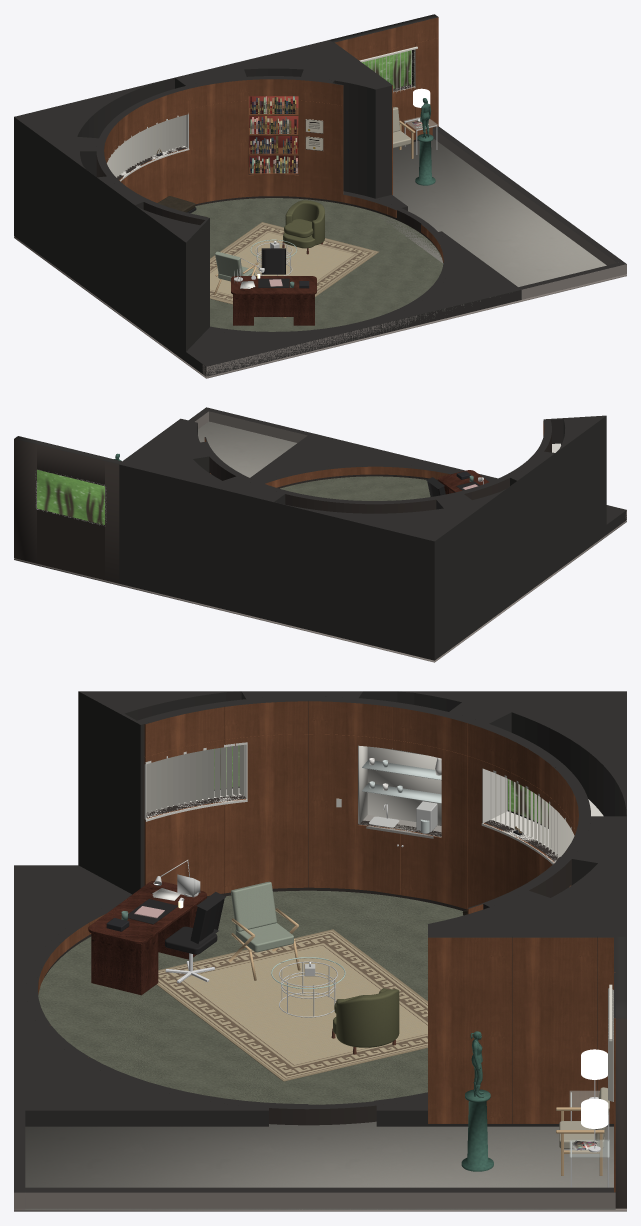
The model's file is room.glb.
3 views of the same model, one above another, from view 1: azimuth 30°, elevation 25°; view 2: azimuth 150°, elevation 25°; view 3: azimuth 270°, elevation 25° (orthographic). The views are drawn at different scales.
Visible parts, largest first — view 1: solid_full_ext, solid_full, floor, floor_wait, solid_kerb_front, rug, drum_panel_4_72.0_0.05, kerb_front_ext, drum_panel_2_36.0_0.05, solid_kerb_front_ext, furn_rosewood, furn_blind_fabric (+28 smaller); view 2: solid_full_ext, solid_full, solid_kerb_front, back_wall_sill_ext, floor_wait, floor, back_wall_1_ext, wwin_view, back_wall_head_ext, drum_core_window_90_hi, back_wall_0_ext, subfloor_ext (+8 smaller); view 3: solid_full, floor_wait, floor, rug, solid_kerb_front, kerb_right_ext, wait_left_panel_1_0.1, wait_left_panel_0_0.1, drum_panel_10_180.0_0.05, furn_blind_fabric, drum_panel_9_169.5_0.05, furn_rosewood (+42 smaller).
Boxes of the visible parts, left/top/right/bottom form: solid_full_ext: left=14, top=117, right=185, bottom=361; solid_full: left=14, top=40, right=391, bottom=351; floor: left=191, top=198, right=443, bottom=331; floor_wait: left=377, top=138, right=606, bottom=286; solid_kerb_front: left=186, top=231, right=521, bottom=366; rug: left=210, top=222, right=378, bottom=317; drum_panel_4_72.0_0.05: left=189, top=101, right=238, bottom=204; kerb_front_ext: left=202, top=261, right=626, bottom=376; drum_panel_2_36.0_0.05: left=299, top=100, right=343, bottom=202; solid_kerb_front_ext: left=186, top=290, right=521, bottom=376; furn_rosewood: left=231, top=276, right=316, bottom=325; furn_blind_fabric: left=107, top=46, right=417, bottom=177; solid_full_ext: left=119, top=416, right=606, bottom=660; solid_full: left=119, top=415, right=605, bottom=541; solid_kerb_front: left=250, top=433, right=626, bottom=524; back_wall_sill_ext: left=37, top=508, right=104, bottom=580; floor_wait: left=198, top=421, right=296, bottom=477; floor: left=280, top=476, right=430, bottom=500; back_wall_1_ext: left=14, top=436, right=39, bottom=563; wwin_view: left=37, top=469, right=104, bottom=524; back_wall_head_ext: left=37, top=442, right=107, bottom=486; drum_core_window_90_hi: left=286, top=492, right=435, bottom=513; back_wall_0_ext: left=105, top=458, right=121, bottom=583; subfloor_ext: left=14, top=520, right=626, bottom=662; solid_full: left=78, top=691, right=626, bottom=1126; floor_wait: left=25, top=1121, right=613, bottom=1187; floor: left=38, top=890, right=463, bottom=1104; rug: left=156, top=929, right=427, bottom=1081; solid_kerb_front: left=14, top=865, right=268, bottom=1126; kerb_right_ext: left=25, top=1187, right=615, bottom=1208; wait_left_panel_1_0.1: left=512, top=970, right=596, bottom=1123; wait_left_panel_0_0.1: left=428, top=970, right=512, bottom=1123; drum_panel_10_180.0_0.05: left=247, top=734, right=308, bottom=888; furn_blind_fabric: left=146, top=745, right=613, bottom=1101; drum_panel_9_169.5_0.05: left=308, top=734, right=357, bottom=889; furn_rosewood: left=88, top=880, right=206, bottom=995.
Size of the model in its own units: 9.6 by 2.64 by 7.6.
Materials: 43 (16 with a texture image).
